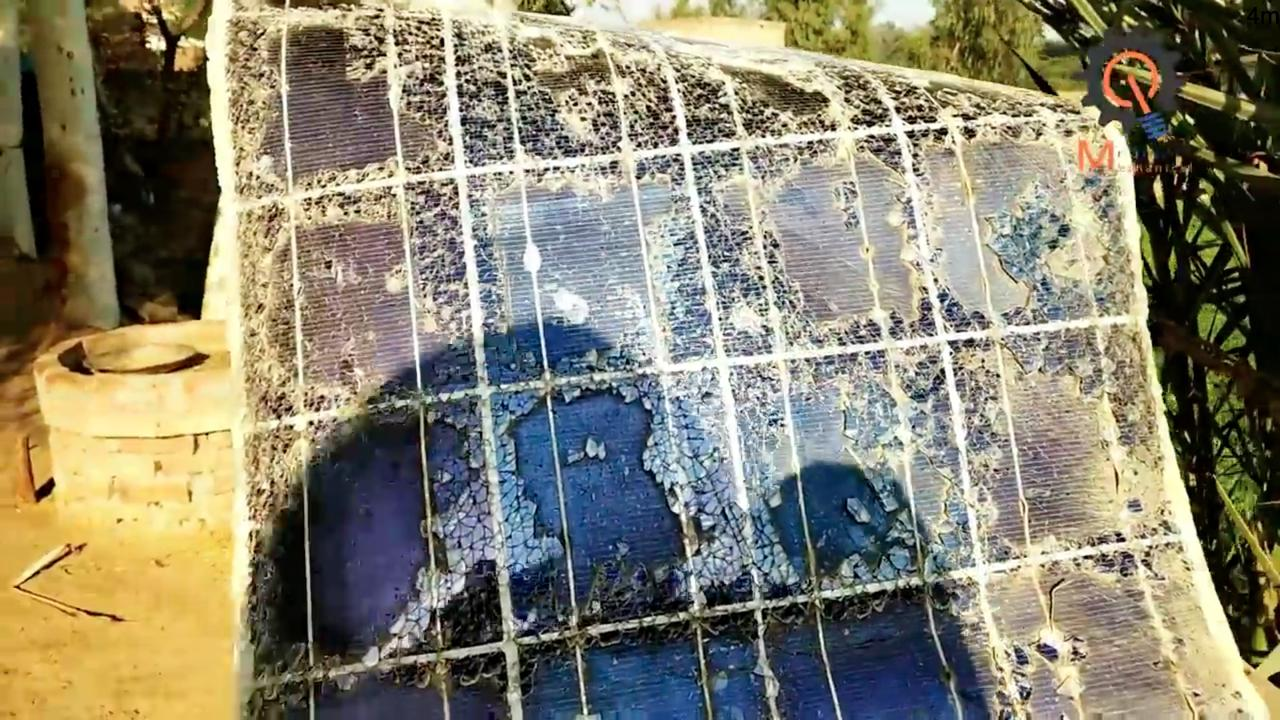Crack: (238, 391, 404, 708), (752, 63, 1068, 184), (389, 398, 572, 591), (346, 22, 540, 170), (589, 515, 821, 634), (836, 319, 1003, 480), (628, 375, 797, 515), (630, 219, 803, 345), (855, 516, 1013, 649), (577, 67, 741, 193), (395, 209, 521, 339), (1000, 197, 1119, 315), (220, 15, 288, 197), (232, 209, 302, 382), (287, 172, 398, 231)
